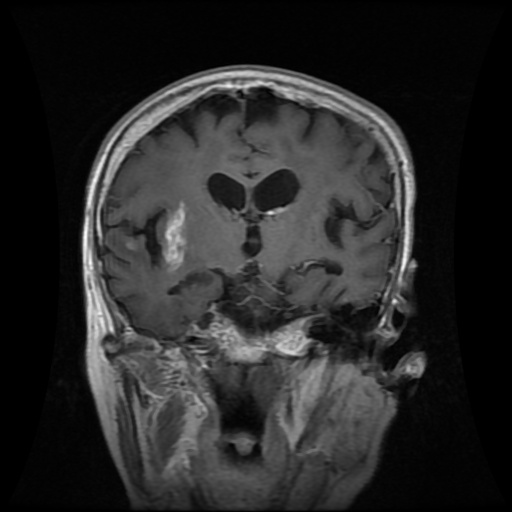glioma: (163, 199, 189, 271)
